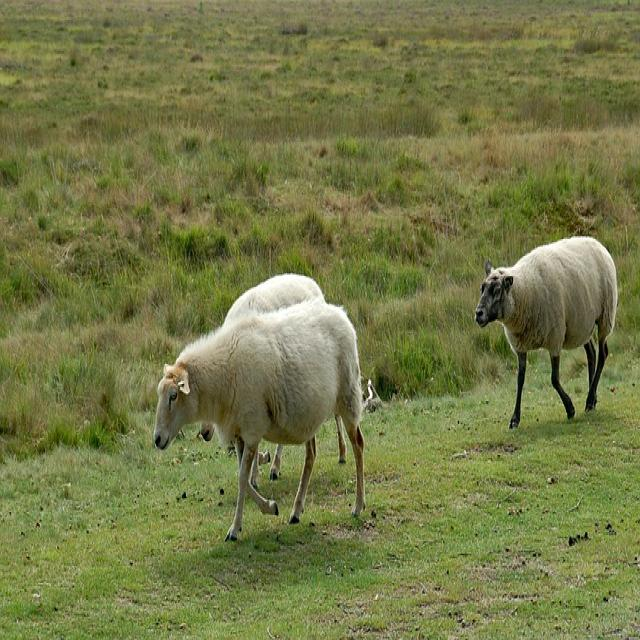sheep: (153, 298, 371, 541), (474, 234, 618, 429), (213, 272, 327, 488)
